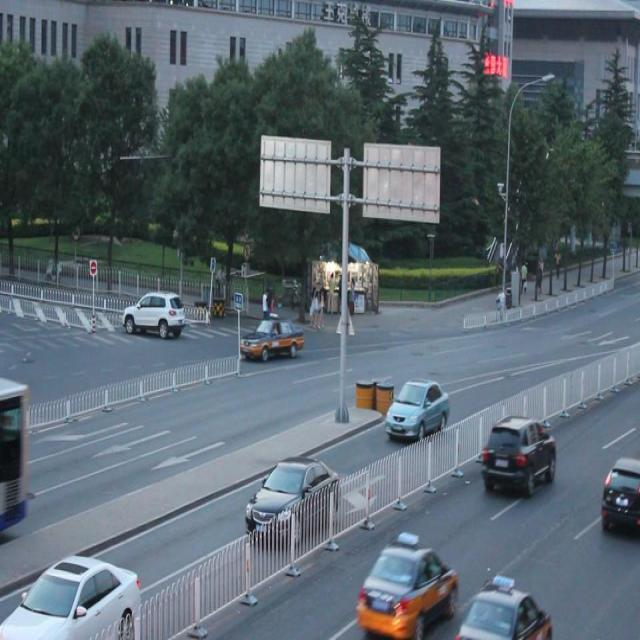car: (1, 551, 140, 640), (353, 535, 455, 640), (244, 456, 340, 543), (482, 416, 556, 492), (455, 582, 551, 640), (385, 374, 449, 443), (600, 456, 640, 540), (240, 314, 304, 360), (124, 288, 180, 334)
